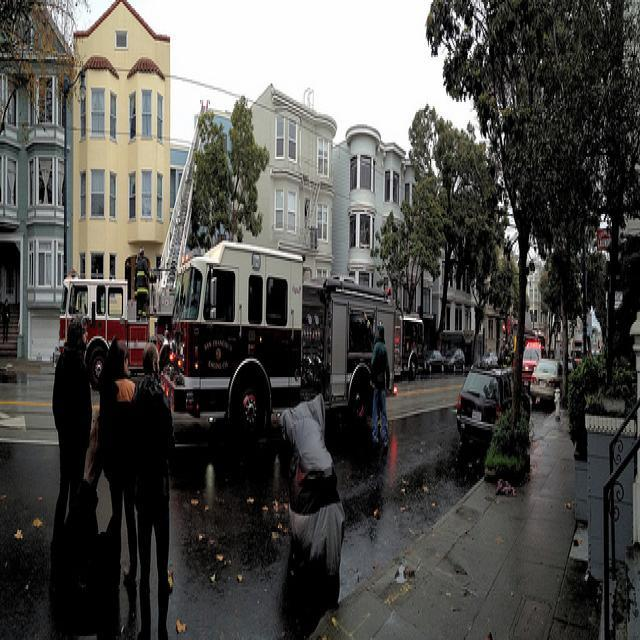fire_hydrant: (553, 385, 561, 420)
